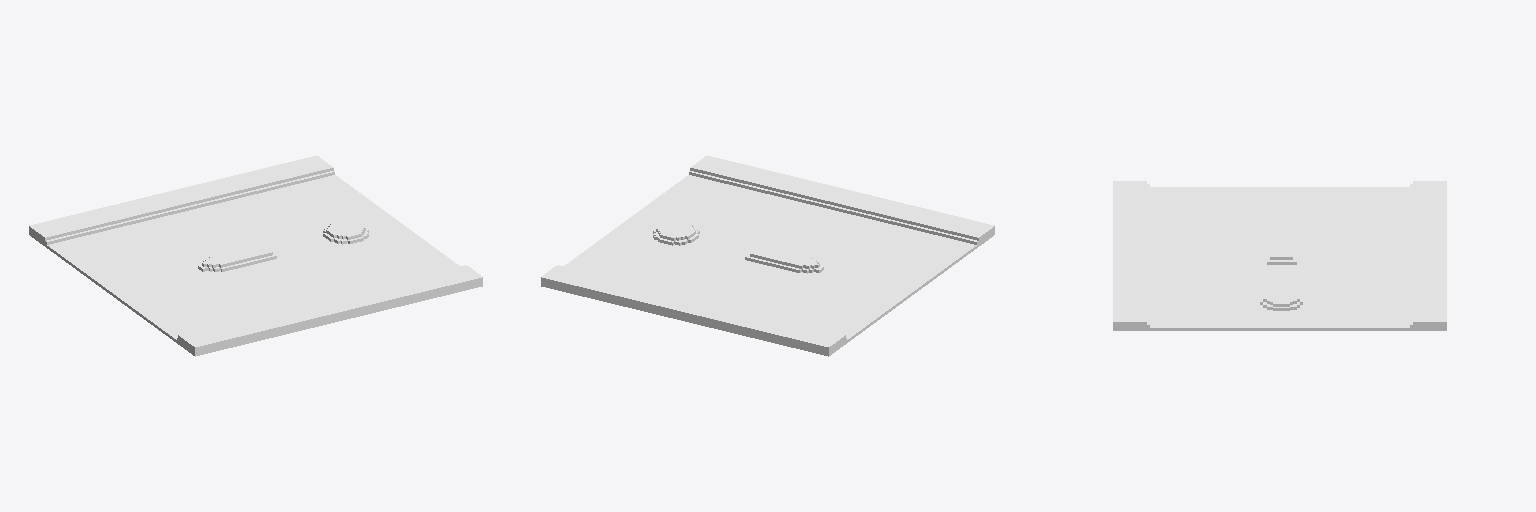
The model's file is Boulevard_pieton.obj.
3 renders of one model, left to right at view 1: azimuth 30°, elevation 25°; view 2: azimuth 150°, elevation 25°; view 3: azimuth 270°, elevation 25°, orthographic.
Visible parts, largest first — view 1: object 1; view 2: object 1; view 3: object 1.
Boxes of the visible parts, x1,y1,x2,y2 form: object 1: [29, 155, 482, 356]; object 1: [541, 155, 994, 356]; object 1: [1113, 181, 1446, 330].
Size of the model in its own units: 10 by 0.3 by 10.